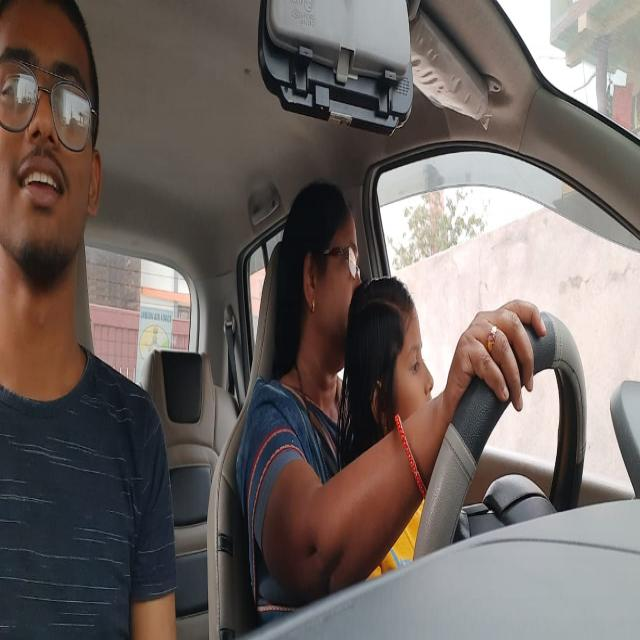child: (346, 267, 433, 429)
person: (1, 0, 105, 291), (280, 170, 357, 368)
